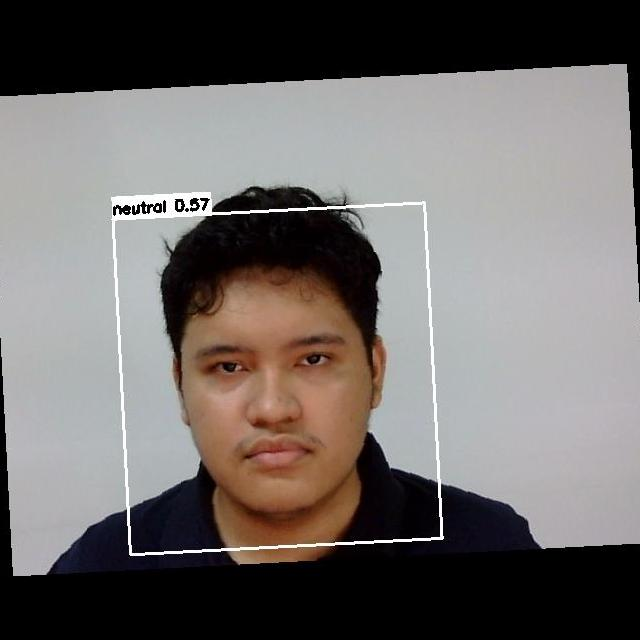Natural: (177, 328, 369, 491)
